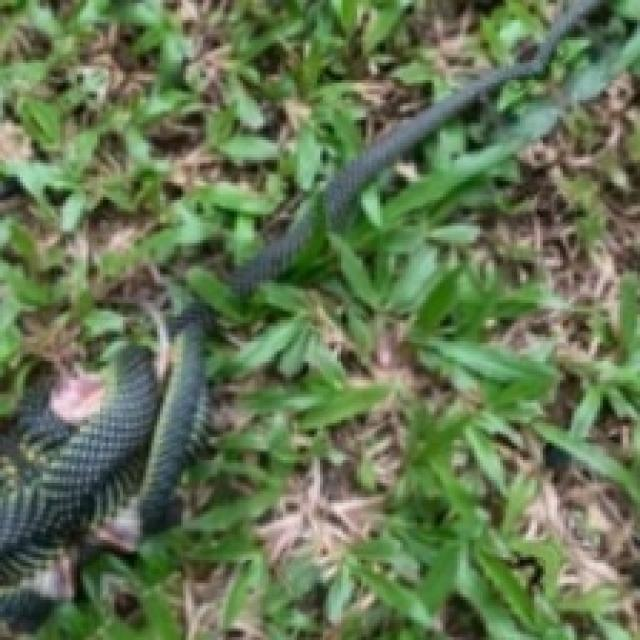paradise tree snake: (0, 0, 637, 637), (49, 303, 206, 531)
